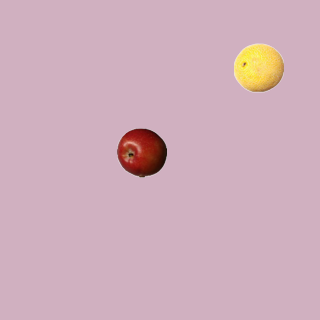Apple Braeburn: (116, 127, 166, 177)
Cantaloupe 1: (233, 42, 283, 92)
